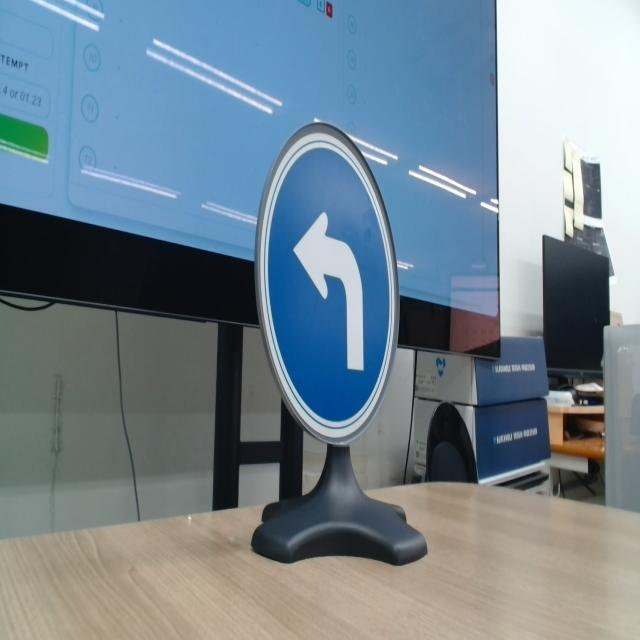left_direction: (250, 109, 413, 449)
